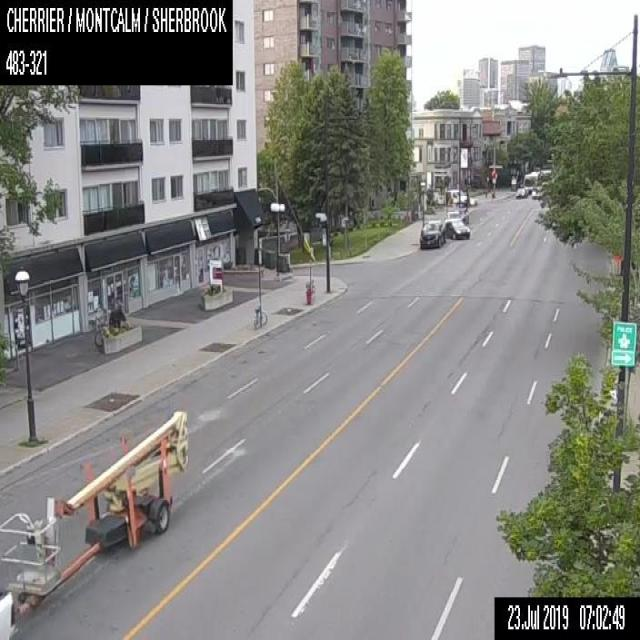bus: (522, 170, 540, 192)
vehicle: (0, 409, 189, 639), (419, 219, 444, 248), (444, 217, 469, 238), (444, 188, 467, 206), (445, 205, 468, 223), (0, 532, 17, 550), (530, 185, 542, 198), (515, 186, 527, 197), (468, 195, 476, 206), (0, 564, 4, 585)
